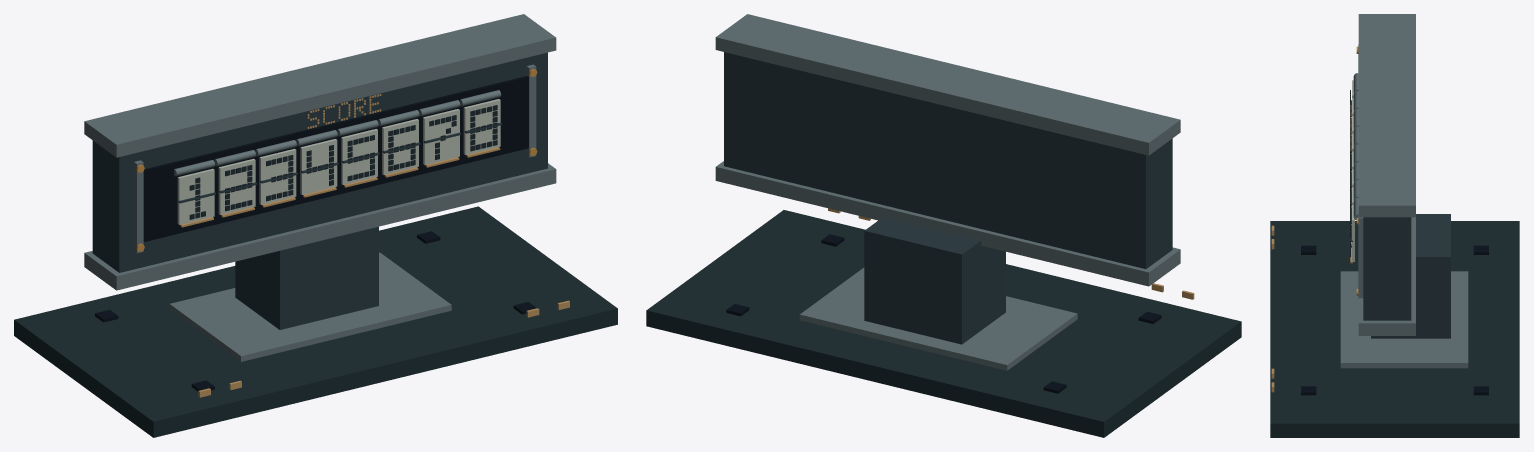
Rendered from splitflap_scoreboard_d0_lod0.meshopt.glb.
3 views of the same model, side by side, from view 1: azimuth 30°, elevation 25°; view 2: azimuth 150°, elevation 25°; view 3: azimuth 270°, elevation 25° (orthographic). The views are drawn at different scales.
Parts seen in each view (by area): view 1: SCOREBOARD_STRUCTURE, SCORE_STATIC_DIGITS; view 2: SCOREBOARD_STRUCTURE; view 3: SCOREBOARD_STRUCTURE.
Boxes of the visible parts, <box> form: SCOREBOARD_STRUCTURE: <box>14,14,617,437</box>; SCORE_STATIC_DIGITS: <box>189,105,497,219</box>; SCOREBOARD_STRUCTURE: <box>646,14,1241,437</box>; SCOREBOARD_STRUCTURE: <box>1270,14,1519,437</box>.
Bounding box in the file's own units: 7.5 × 3.92 × 3.9.
